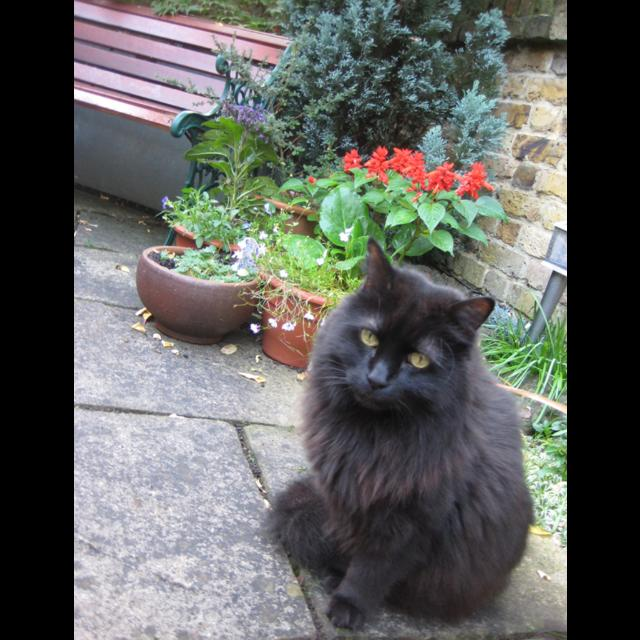Flower: (338, 144, 456, 200), (220, 105, 268, 144), (456, 161, 492, 199), (232, 240, 264, 274), (338, 229, 350, 241), (280, 322, 294, 328), (267, 318, 277, 326), (250, 324, 258, 332), (306, 176, 314, 184), (260, 230, 266, 238), (305, 314, 315, 318), (316, 258, 322, 264), (162, 196, 168, 200)
